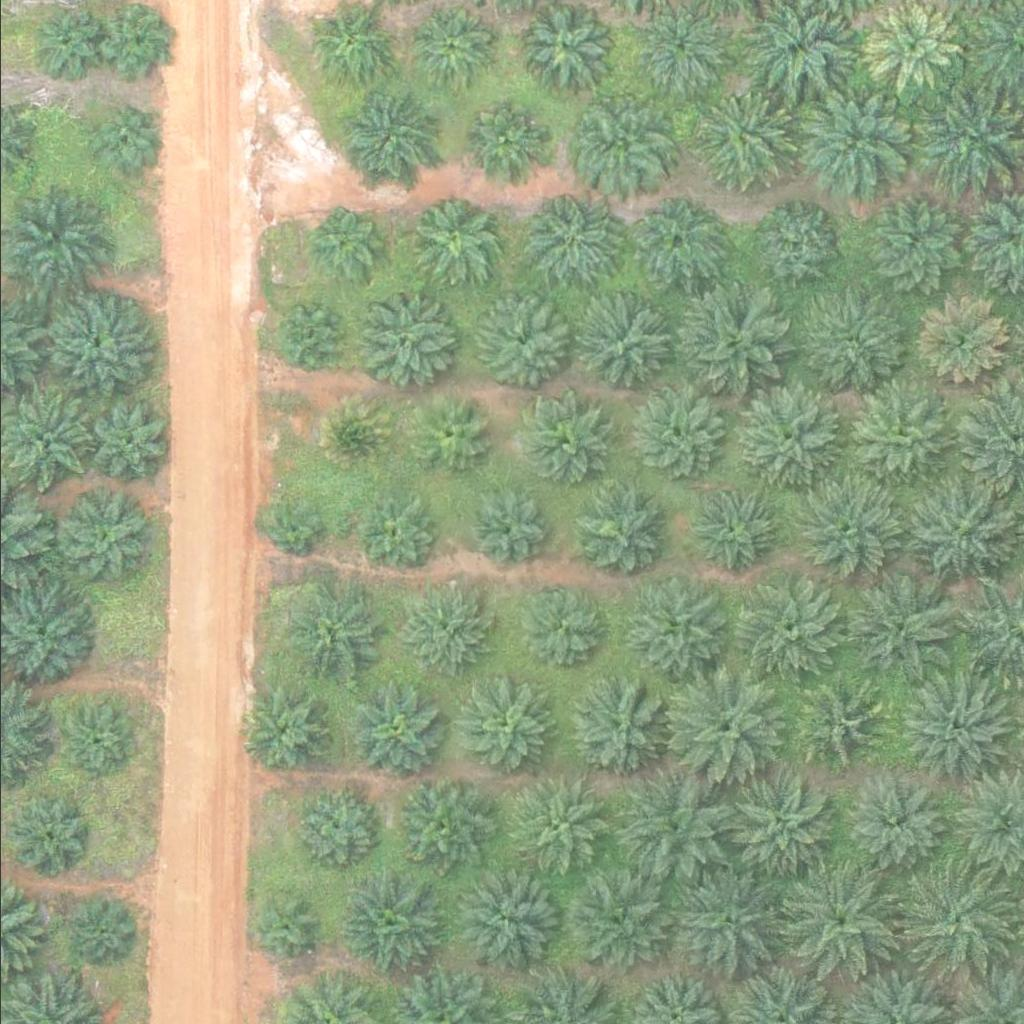Kelapa_Sawit: (790, 83, 904, 196), (780, 865, 893, 978), (675, 864, 788, 977), (726, 767, 839, 880), (903, 476, 1016, 589), (900, 861, 1013, 973), (619, 773, 732, 885), (670, 671, 783, 783), (731, 570, 844, 682), (903, 670, 1016, 782), (844, 574, 957, 686), (668, 292, 781, 404), (566, 879, 667, 979), (458, 873, 559, 973), (336, 874, 437, 974), (509, 780, 610, 880), (392, 779, 493, 879), (567, 678, 668, 778), (451, 677, 552, 777), (623, 581, 724, 681), (801, 478, 902, 578), (850, 389, 951, 489), (864, 196, 965, 296), (804, 298, 905, 398), (336, 91, 437, 191), (49, 292, 150, 392), (235, 680, 335, 780), (285, 586, 385, 686), (739, 388, 839, 488), (628, 386, 728, 486), (689, 90, 789, 190), (557, 94, 657, 194), (471, 296, 571, 396), (353, 292, 453, 392), (793, 681, 882, 769), (306, 1, 395, 89), (291, 785, 379, 873), (520, 399, 608, 487), (916, 296, 1004, 384), (520, 1, 608, 89), (580, 302, 668, 390), (459, 103, 547, 191), (408, 4, 496, 92), (351, 690, 439, 777), (520, 584, 608, 671), (408, 586, 496, 673), (690, 483, 778, 570), (571, 489, 659, 576), (851, 782, 939, 869), (871, 3, 959, 90), (749, 204, 837, 291), (631, 205, 719, 292), (525, 196, 613, 283), (406, 202, 494, 289), (84, 397, 172, 484), (58, 491, 146, 578), (407, 399, 483, 474), (468, 489, 544, 564), (53, 702, 129, 777), (244, 891, 320, 966), (359, 496, 435, 571), (318, 400, 394, 475), (269, 298, 345, 373), (10, 799, 85, 874), (311, 208, 386, 283), (22, 2, 97, 77), (85, 100, 160, 175), (68, 900, 131, 963), (259, 498, 322, 560)
